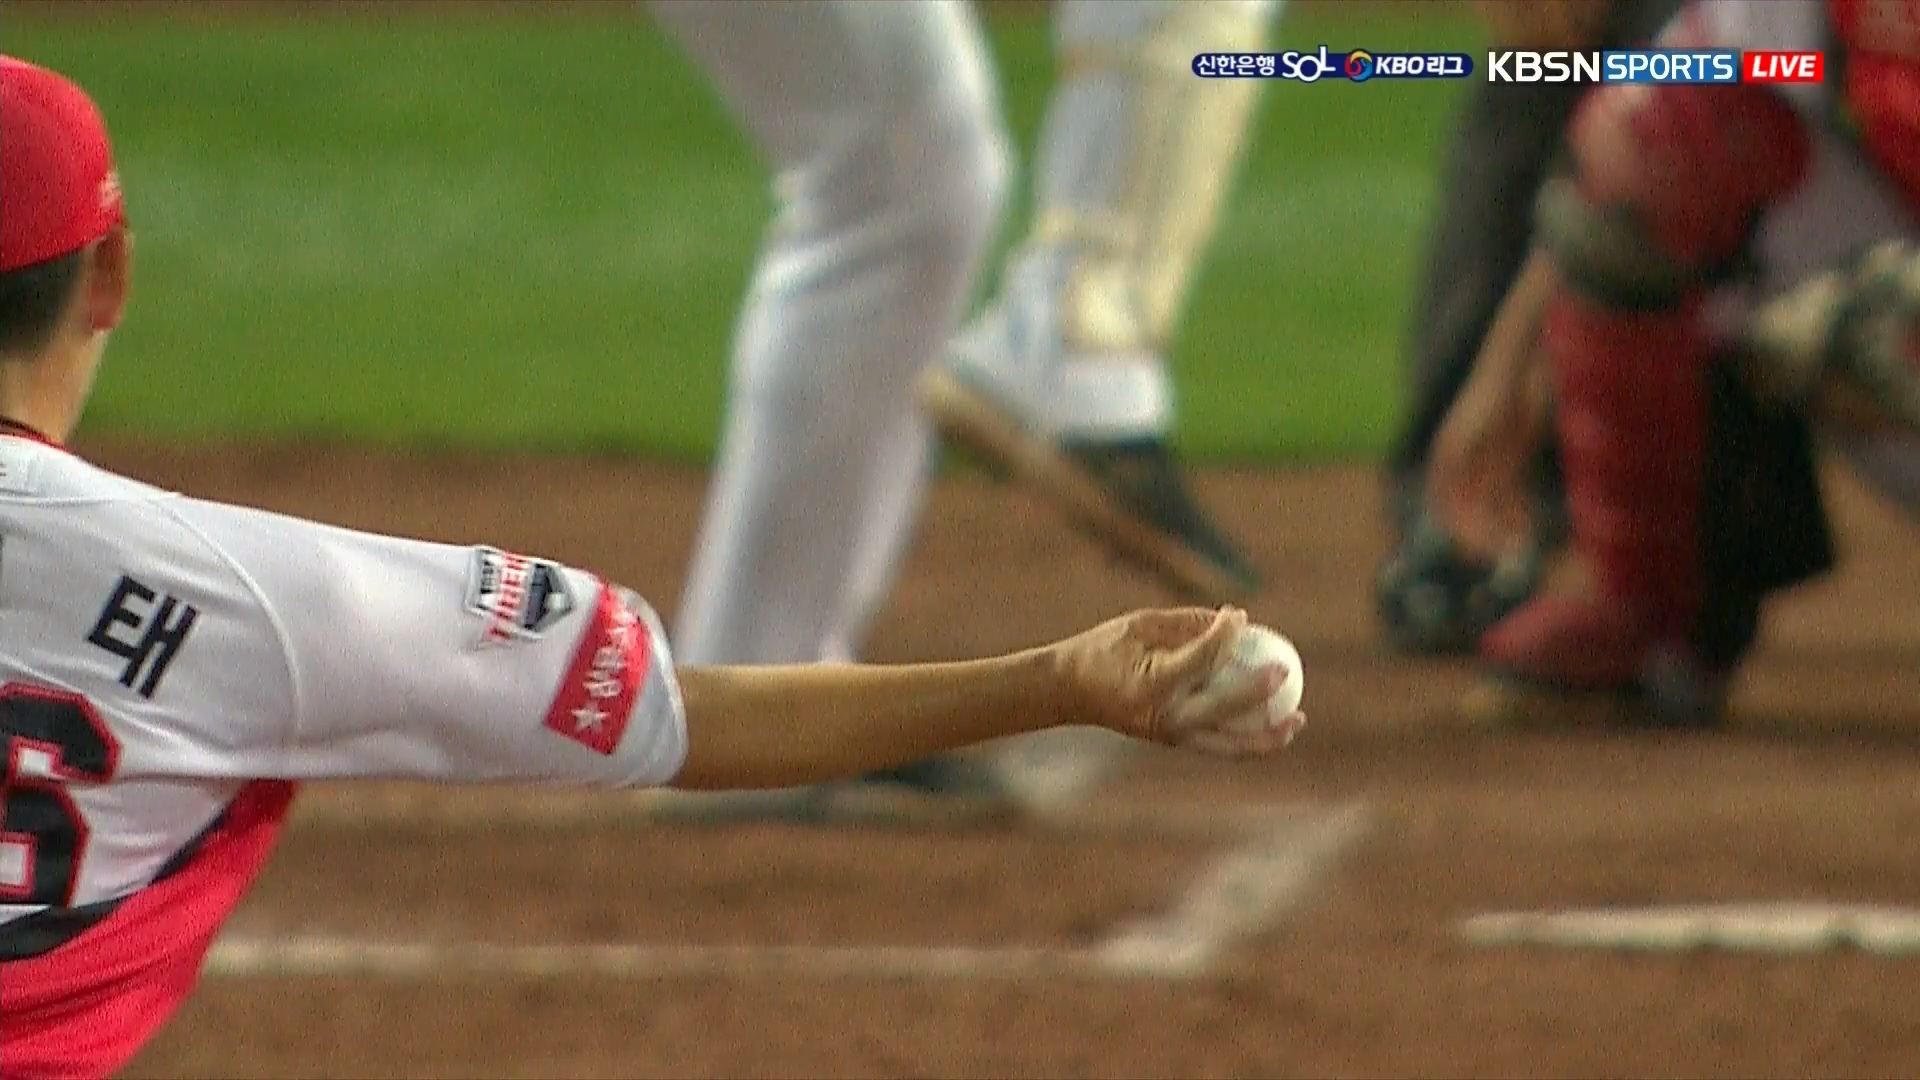zoomin_hand: (665, 593, 1321, 822)
